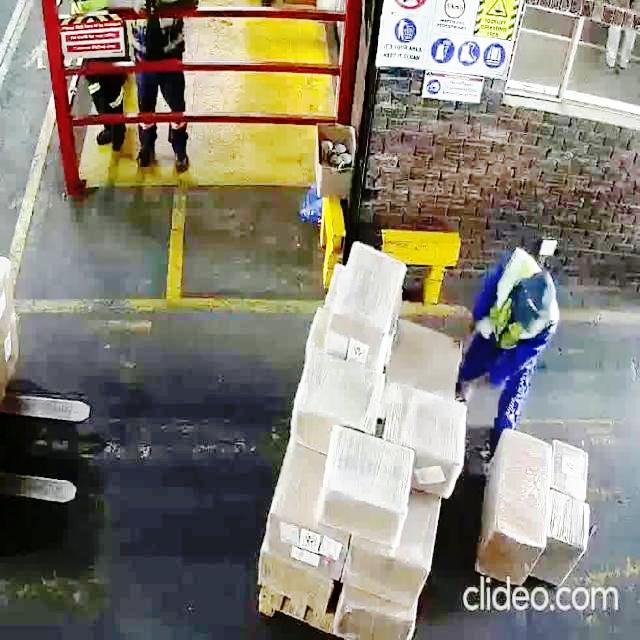Box: (292, 344, 380, 452), (322, 430, 412, 535), (330, 232, 397, 358), (481, 438, 542, 575), (384, 388, 464, 462), (262, 504, 344, 572), (352, 542, 427, 606), (338, 584, 418, 640), (253, 547, 323, 608), (540, 496, 582, 584), (546, 441, 590, 493)
